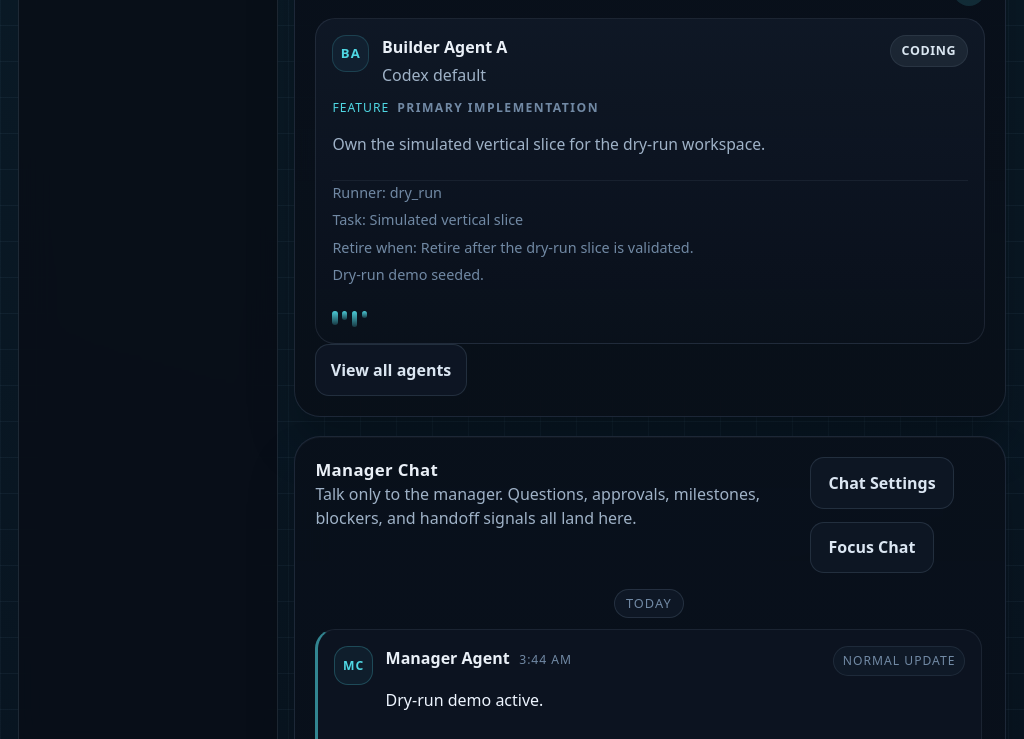
Test: project workspace › opens the full agent inspector and loads agent logs
(page scrolled)
Click the button "View all agents": (391, 370) top-left (315, 344), bottom-right (467, 396)
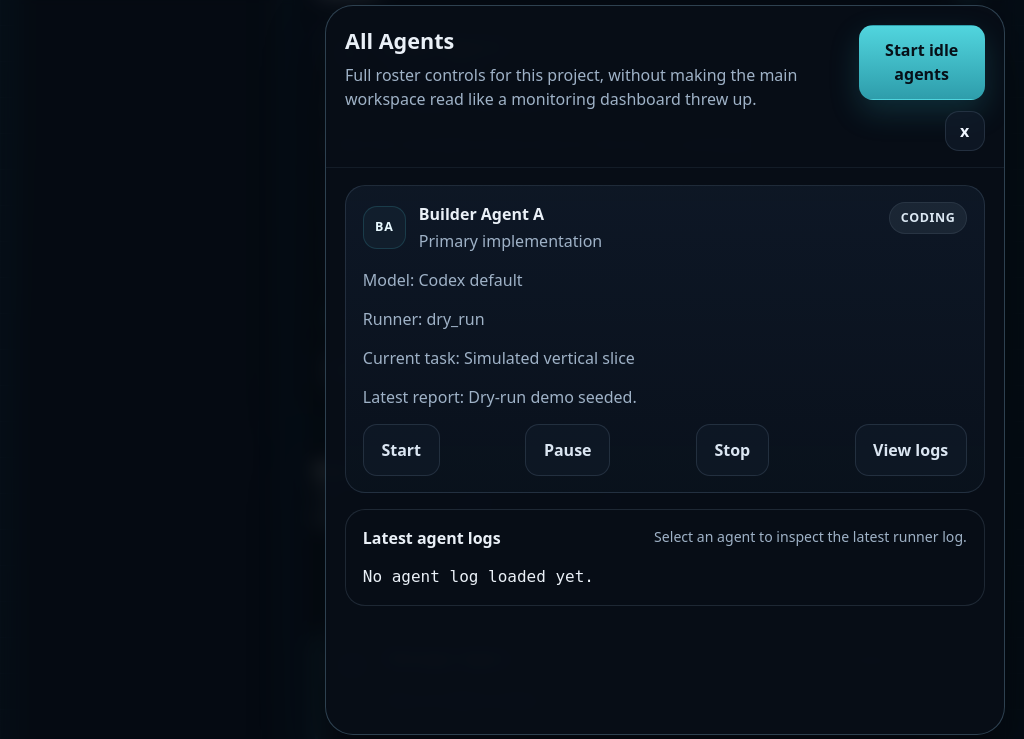
expect the dialog "All Agents" is shown: met
Click the button "View logs": (911, 450) top-left (854, 424), bottom-right (967, 476)
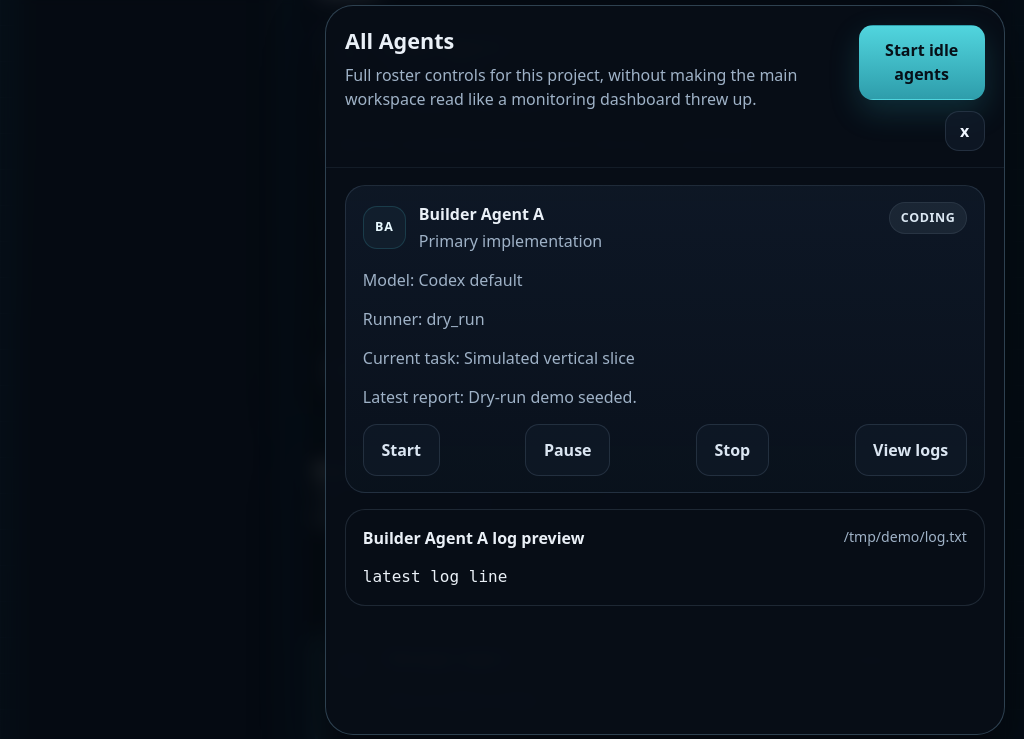
expect the text "latest log line" is shown: met, box top-left (363, 567), bottom-right (507, 586)
